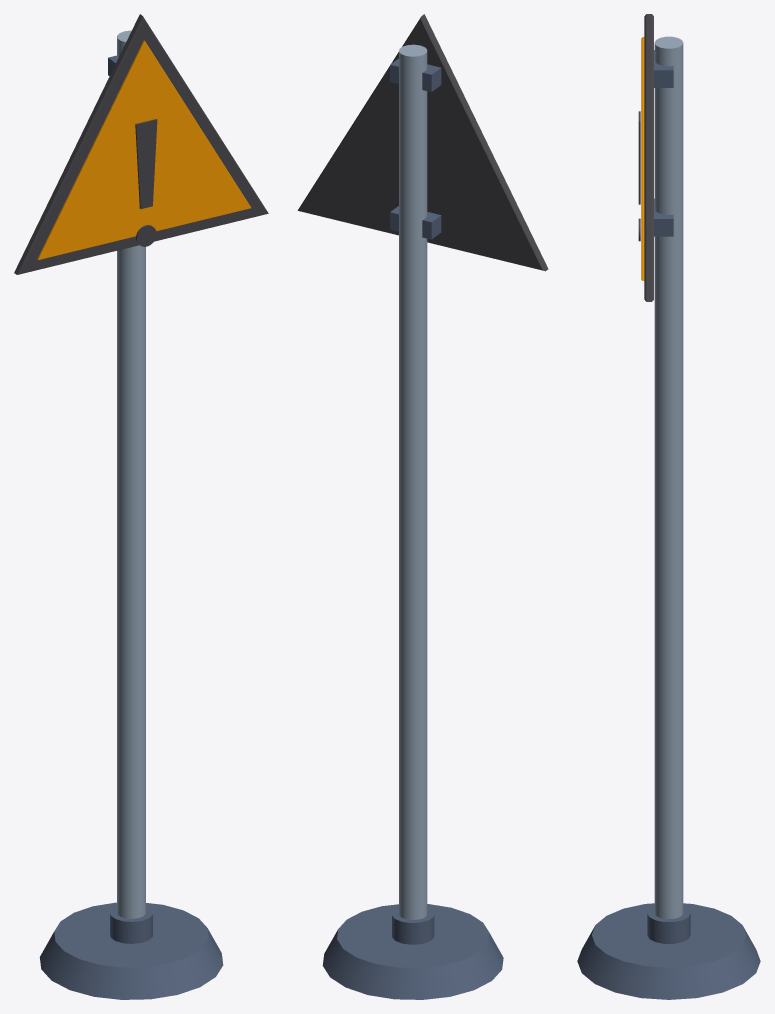
Rendered from panneau-danger-general.glb.
The picture shows the model from 3 angles, left to right: view 1: azimuth 30°, elevation 25°; view 2: azimuth 150°, elevation 25°; view 3: azimuth 270°, elevation 25°; orthographic projection.
Visible parts, largest first — view 1: poteau__bleu_pale, panneau__orange, poteau__bleu_fonce, panneau__gris_fonce; view 2: poteau__bleu_pale, panneau__gris_fonce, poteau__bleu_fonce, panneau__bleu_fonce; view 3: poteau__bleu_pale, poteau__bleu_fonce, panneau__gris_fonce, panneau__orange, panneau__bleu_fonce.
Part boxes in pixels (x1,y1,x2,y2): poteau__bleu_pale: (117, 30, 145, 918); panneau__orange: (37, 40, 251, 259); poteau__bleu_fonce: (39, 902, 223, 999); panneau__gris_fonce: (14, 14, 268, 274); poteau__bleu_pale: (399, 44, 427, 919); panneau__gris_fonce: (297, 14, 548, 271); poteau__bleu_fonce: (322, 904, 503, 999); panneau__bleu_fonce: (390, 58, 441, 239); poteau__bleu_pale: (654, 36, 683, 918); poteau__bleu_fonce: (577, 903, 760, 999); panneau__gris_fonce: (638, 14, 653, 301); panneau__orange: (641, 37, 644, 280); panneau__bleu_fonce: (654, 50, 673, 236).
Bounding box in the file's own units: 0.5805 × 2.1 × 0.3685.
